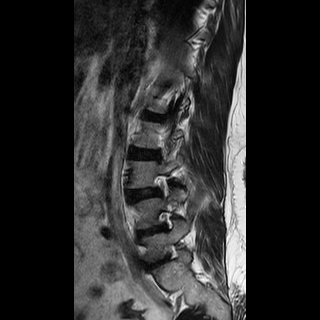RFS0: (147, 169, 175, 203), (152, 206, 180, 238)
